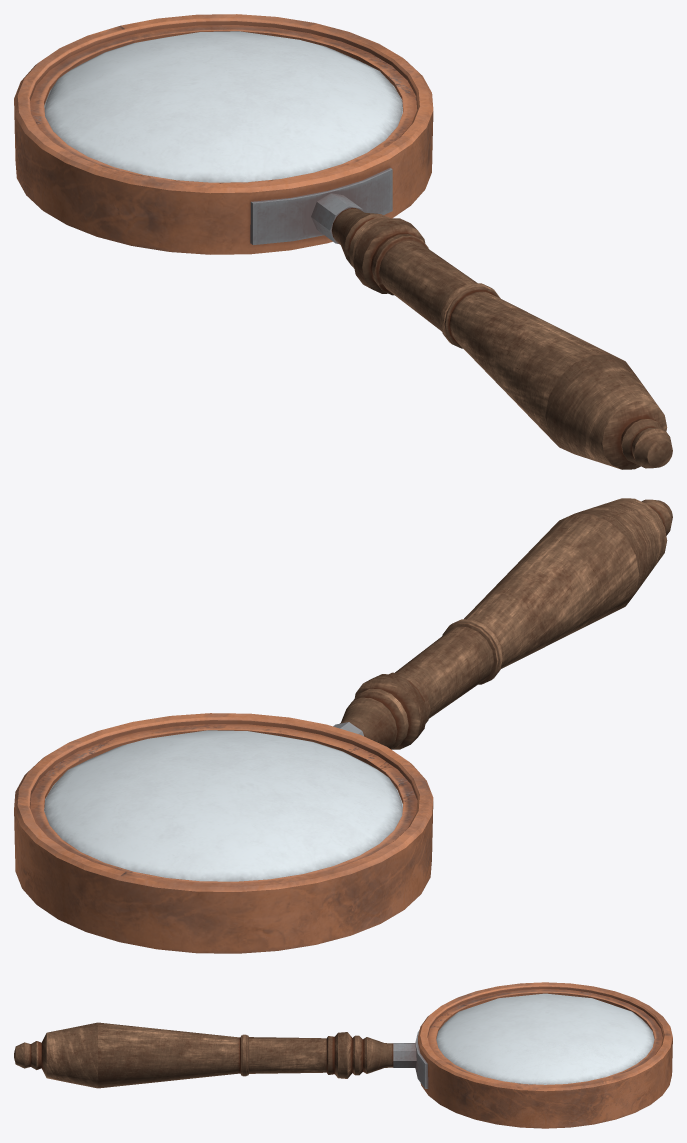
Rendered from sm_Magnifying.fbx.
3 views of the same model, one above another, from view 1: azimuth 30°, elevation 25°; view 2: azimuth 150°, elevation 25°; view 3: azimuth 270°, elevation 25° (orthographic). The views are drawn at different scales.
Parts seen in each view (by area): view 1: sm_Magnifying, sm_MagnifyingGlass; view 2: sm_Magnifying, sm_MagnifyingGlass; view 3: sm_Magnifying, sm_MagnifyingGlass.
Boxes of the visible parts, box(x1,y1,x2,y2) form: sm_Magnifying: box(14, 14, 672, 469); sm_MagnifyingGlass: box(44, 31, 402, 182); sm_Magnifying: box(14, 498, 672, 953); sm_MagnifyingGlass: box(44, 730, 402, 881); sm_Magnifying: box(14, 982, 672, 1128); sm_MagnifyingGlass: box(436, 993, 654, 1084).
Size of the model in its own units: 19.16 by 5.89 by 49.5.
